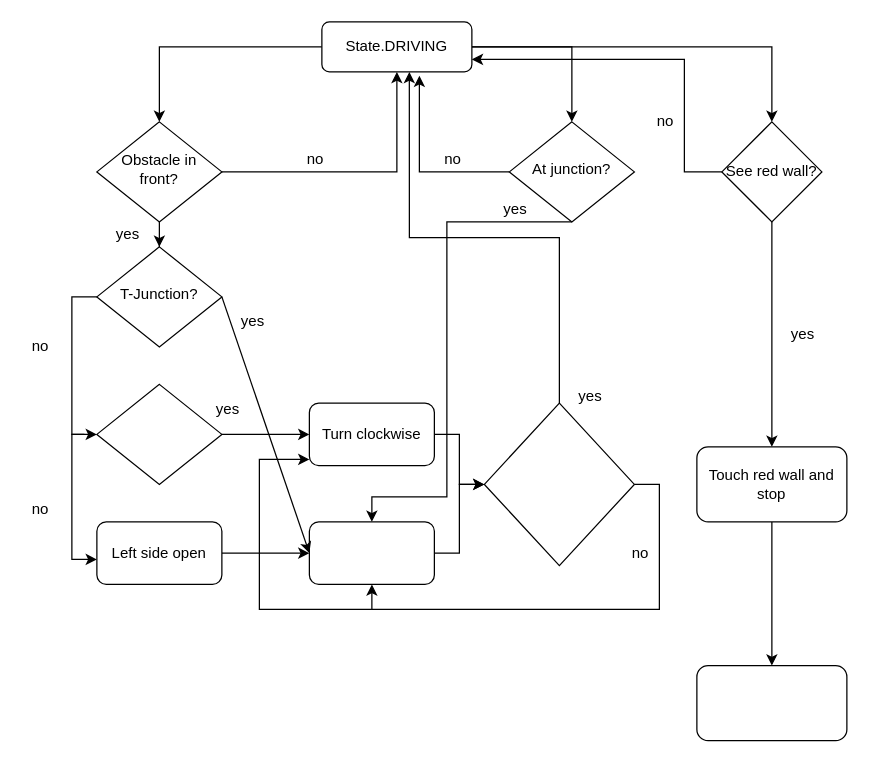
Image size: 869x763. Some labels were removed from this diagram. Each missing label, with the centre of its shape:
END: point 771,702
Right side open?: point 159,433
Robot parallel to x or y axis (90 degree rotation completed): point 558,484
Turn anticlockwise: point 371,552
